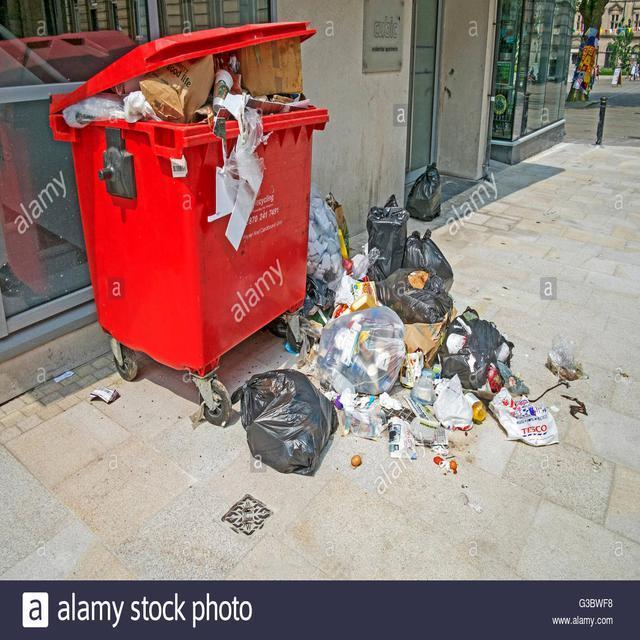garbage: (289, 199, 478, 443), (235, 357, 334, 500), (107, 60, 284, 129), (197, 90, 264, 250), (443, 349, 553, 445)
